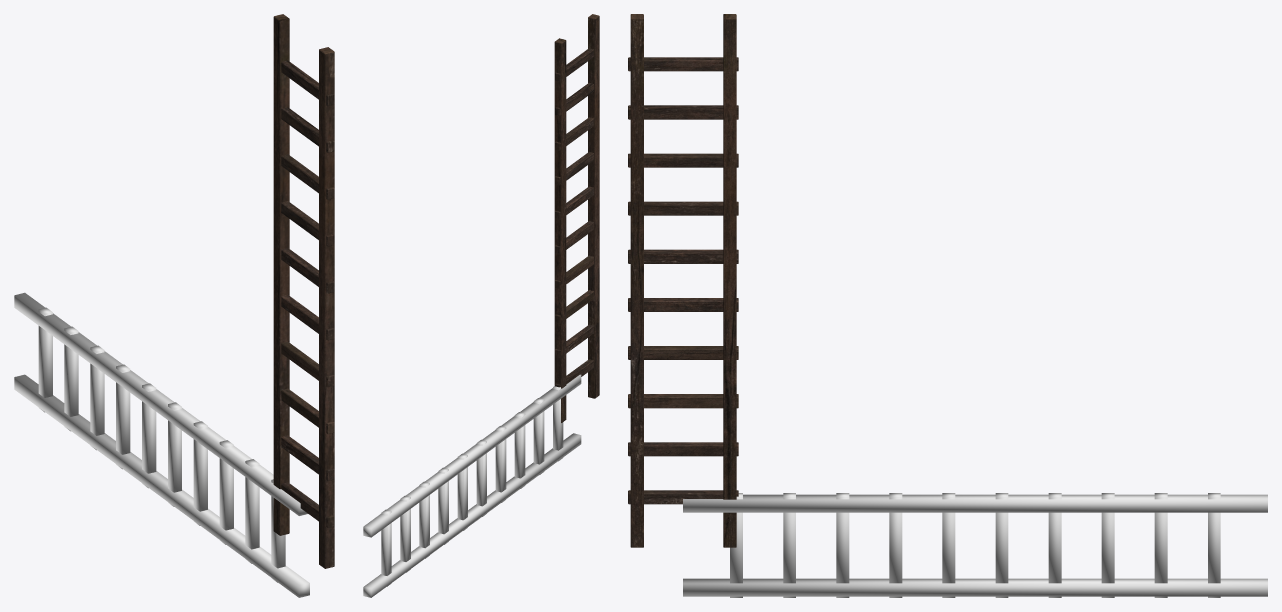
File: SM_Wooden_Ladder.fbx
The picture shows the model from 3 angles, left to right: view 1: azimuth 30°, elevation 25°; view 2: azimuth 150°, elevation 25°; view 3: azimuth 270°, elevation 25°; orthographic projection. The views are drawn at different scales.
Visible parts, largest first — view 1: SM_Wooden_Ladder, SM_Wooden_Ladder_ConvexHulls; view 2: SM_Wooden_Ladder_ConvexHulls, SM_Wooden_Ladder; view 3: SM_Wooden_Ladder_ConvexHulls, SM_Wooden_Ladder.
Part boxes in pixels (x1=…): SM_Wooden_Ladder: x1=273, y1=14, x2=334, y2=568; SM_Wooden_Ladder_ConvexHulls: x1=14, y1=292, x2=309, y2=597; SM_Wooden_Ladder_ConvexHulls: x1=363, y1=374, x2=581, y2=597; SM_Wooden_Ladder: x1=554, y1=14, x2=599, y2=422; SM_Wooden_Ladder_ConvexHulls: x1=683, y1=493, x2=1267, y2=597; SM_Wooden_Ladder: x1=628, y1=14, x2=738, y2=547.
Bounding box in the file's own units: 0.0763 × 3.83 × 3.83.
